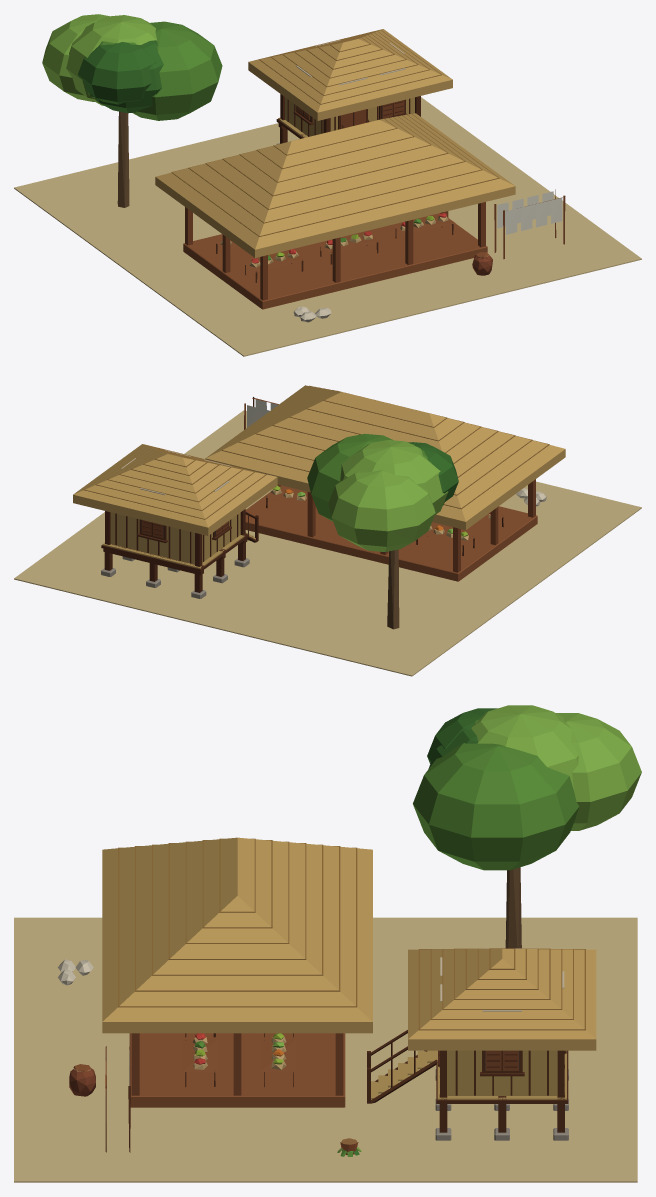
Rendered from shop_3.glb.
The picture shows the model from 3 angles, top to bottom: view 1: azimuth 30°, elevation 25°; view 2: azimuth 150°, elevation 25°; view 3: azimuth 270°, elevation 25°; orthographic projection. The views are drawn at different scales.
Parts seen in each view (by area): view 1: body; view 2: body; view 3: body.
Boxes of the visible parts, x1,y1,x2,y2 form: body: (14, 14, 641, 356); body: (14, 385, 641, 676); body: (14, 705, 641, 1182).
Size of the model in its own units: 15.9 by 7.24 by 16.01.
